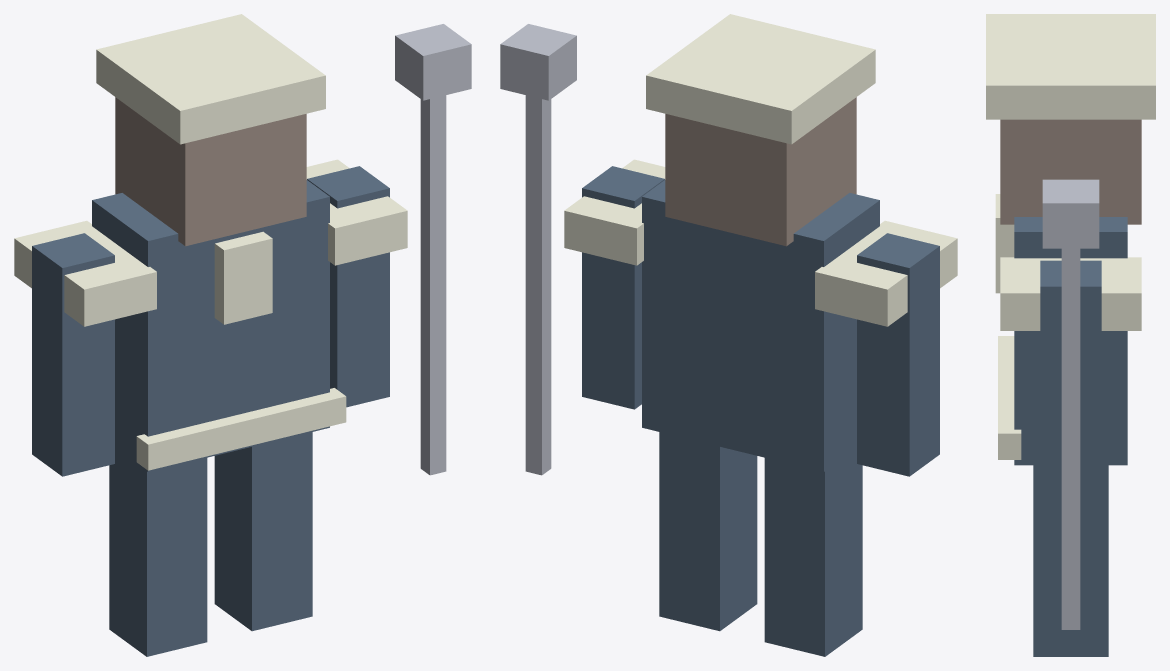
The model's file is 08_luma_holloway_courier_under_maintenance.glb.
3 views of the same model, side by side, from view 1: azimuth 30°, elevation 25°; view 2: azimuth 150°, elevation 25°; view 3: azimuth 270°, elevation 25° (orthographic).
Parts seen in each view (by area): view 1: Luma Holloway, Courier under Maintenance; view 2: Luma Holloway, Courier under Maintenance; view 3: Luma Holloway, Courier under Maintenance.
Part boxes in pixels (x1=…): Luma Holloway, Courier under Maintenance: x1=14, y1=14, x2=471, y2=656; Luma Holloway, Courier under Maintenance: x1=500, y1=14, x2=957, y2=656; Luma Holloway, Courier under Maintenance: x1=986, y1=14, x2=1155, y2=656.
Size of the model in its own units: 1.08 by 1.41 by 0.3835.
